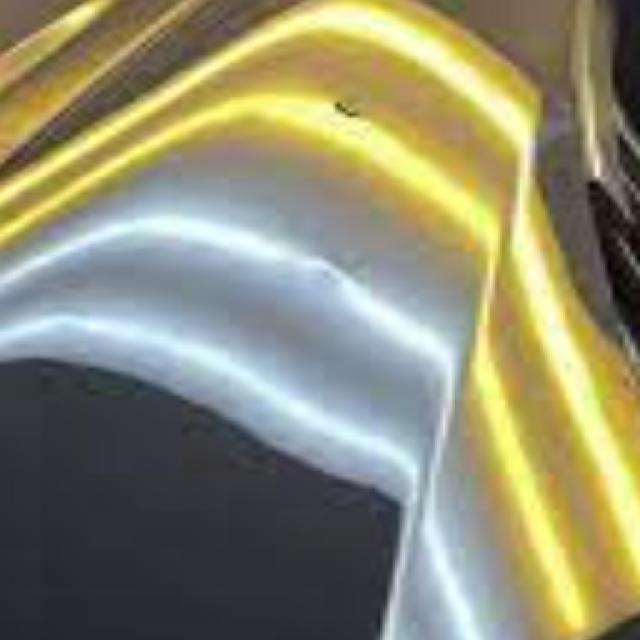dents: (304, 58, 405, 160)
